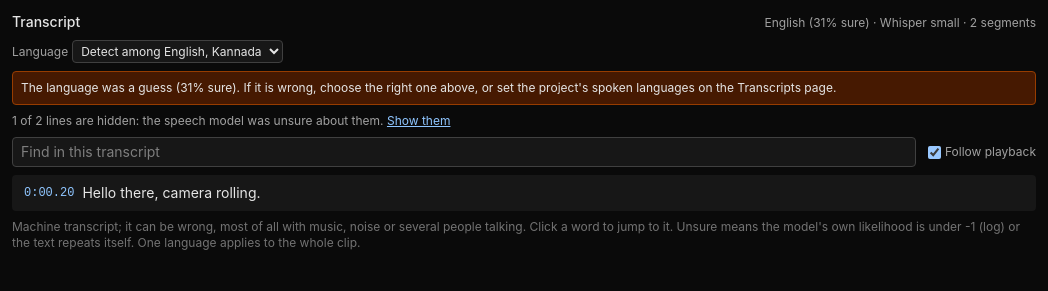
Test case: hides what the model was unsure about until asked, and says the text is machine-made
The image size is (1048, 291).
Expected: the number of list items is 1, [24,183,260,203]
Expected: the text "Machine transcript; it can be wrong" shows "Unsure means the model's own likelihood is under -1", [12,219,1020,250]
Click the button "Show them" at (419, 121), box [387,113,450,129]
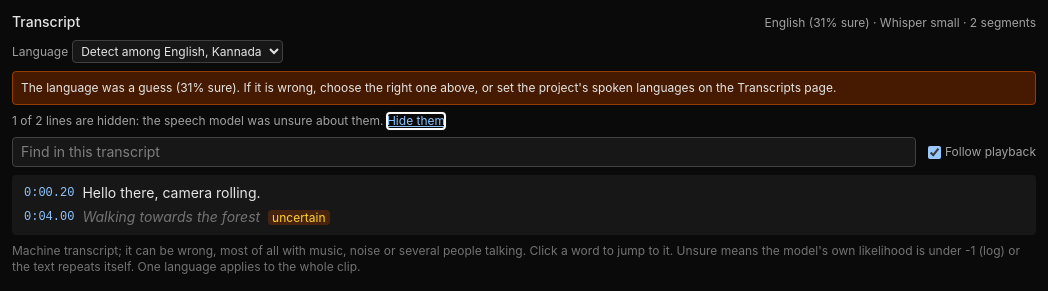
Result: the text "uncertain" is shown at [268,210,330,225]
Type "FOREST" into the search field labelled "Find in this transcript" at (464, 152), box [12,137,916,167]
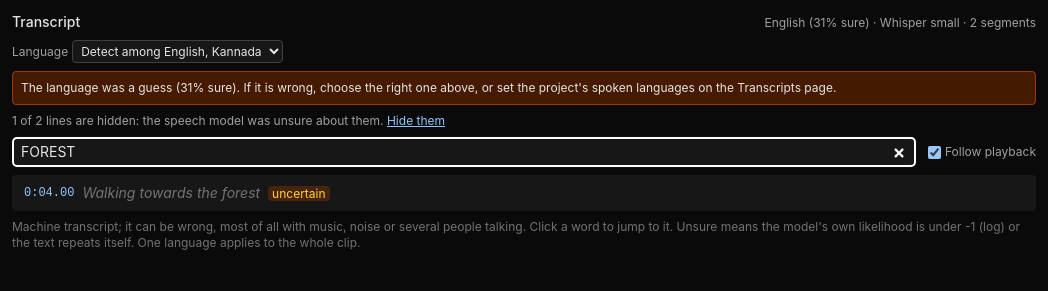
Result: the number of list items is 1 at [24,183,330,203]
Type "x" into the search field named "Find in this transcript" at (464, 152), box [12,137,916,167]
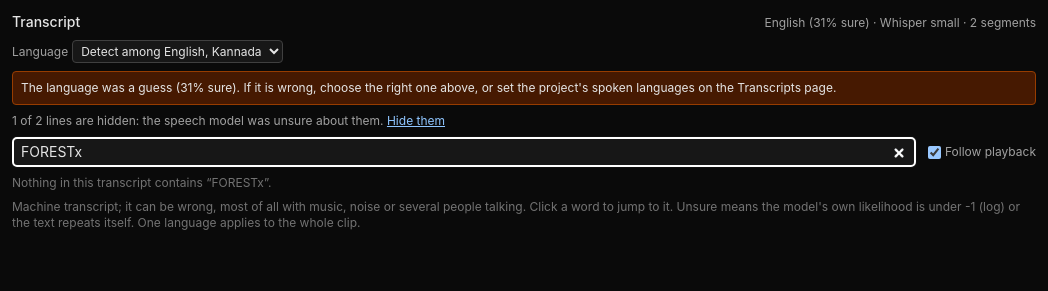
Result: the text "Nothing in this transcript contains “FORESTx”." is shown at [12,175,272,190]
